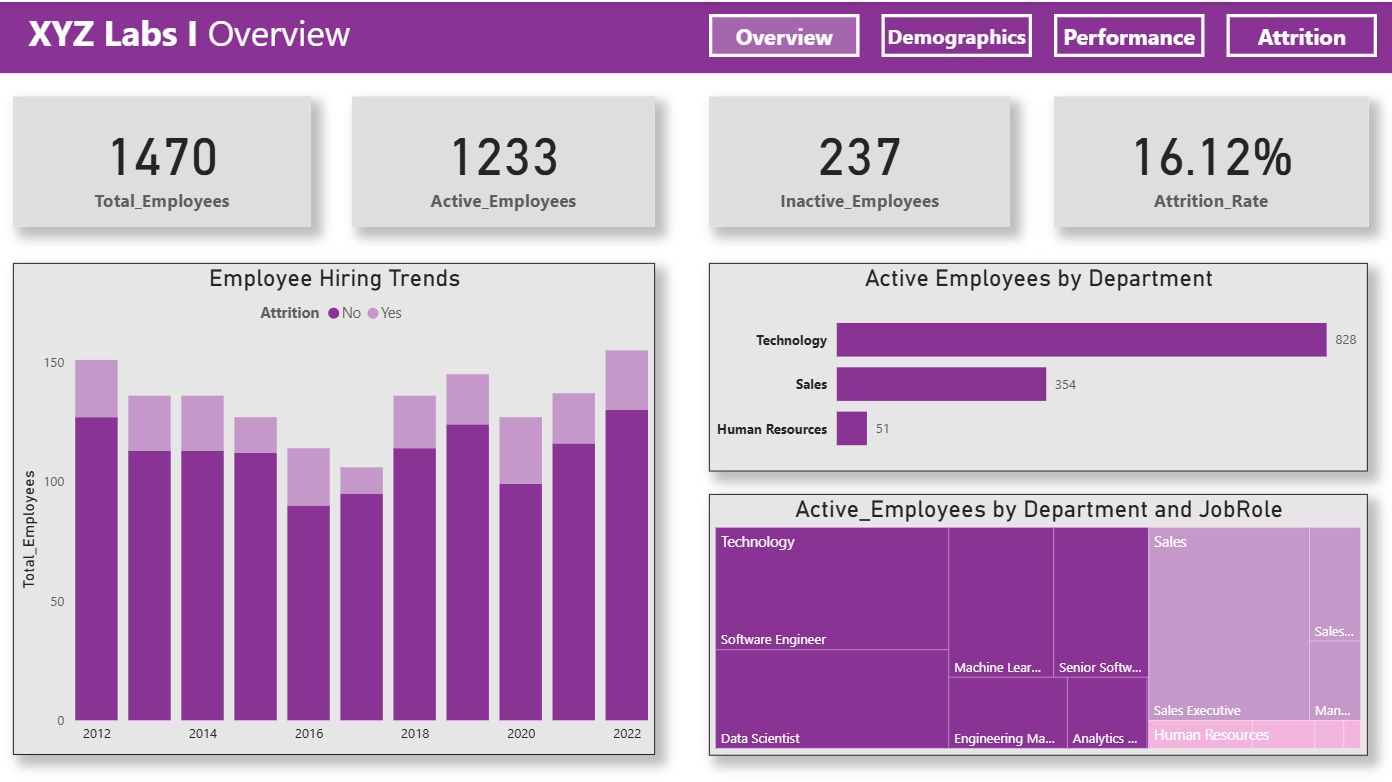

This screenshot's page, from the dashboard's own definition file:
{"tool":"powerbi","page":{"name":"Overview","canvas":[1280,720],"ordinal":0},"visuals":[{"type":"shape","box":[0,0,1279.5,65.1],"z":0},{"type":"textbox","box":[13.6,0,322.5,65.1],"z":1000},{"type":"actionButton","box":[808.6,10.6,137.8,39.4],"z":2000},{"type":"actionButton","box":[651.1,10.6,137.8,39.4],"z":3000},{"type":"actionButton","box":[1123.5,10.6,137.8,39.4],"z":4000},{"type":"actionButton","box":[966.1,10.6,137.8,39.4],"z":5000},{"type":"card","fields":{"Values":["All_Measures.Total_Employees"]},"box":[13.6,86.3,272.6,119.6],"z":6000},{"type":"card","fields":{"Values":["All_Measures.Active_Employees"]},"box":[324,86.3,277.1,119.6],"z":7000},{"type":"card","fields":{"Values":["All_Measures.Inactive_Employees"]},"box":[651.1,86.3,275.6,119.6],"z":8000},{"type":"card","fields":{"Values":["All_Measures.Attrition_Rate"]},"box":[966.1,86.3,287.7,119.6],"z":9000},{"type":"columnChart","title":"Employee Hiring Trends","fields":{"Y":["All_Measures.Total_Employees"],"Series":["Employee.Attrition"],"Category":["Date.Date.Variation.Date Hierarchy.Year"]},"box":[13.6,239.2,587.5,449.7],"z":10000},{"type":"clusteredBarChart","title":"Active Employees by Department","fields":{"Category":["Employee.Department"],"Y":["All_Measures.Active_Employees"]},"box":[651.1,239.2,602.7,190.8],"z":11000},{"type":"treemap","fields":{"Values":["All_Measures.Active_Employees"],"Details":["Employee.JobRole"],"Group":["Employee.Department"]},"box":[651.1,449.7,602.7,239.2],"z":12000}]}

Visuals, with their boxes in screenshot pixels (x1, y1, x2, y2), scaled from the page's 1280x720 canvas onto the 1392x782 screenshot:
shape: [x1=0, y1=0, x2=1391, y2=71]
textbox: [x1=15, y1=0, x2=366, y2=71]
actionButton: [x1=879, y1=12, x2=1029, y2=54]
actionButton: [x1=708, y1=12, x2=858, y2=54]
actionButton: [x1=1222, y1=12, x2=1372, y2=54]
actionButton: [x1=1051, y1=12, x2=1200, y2=54]
card - All_Measures.Total_Employees: [x1=15, y1=94, x2=311, y2=224]
card - All_Measures.Active_Employees: [x1=352, y1=94, x2=654, y2=224]
card - All_Measures.Inactive_Employees: [x1=708, y1=94, x2=1008, y2=224]
card - All_Measures.Attrition_Rate: [x1=1051, y1=94, x2=1364, y2=224]
"Employee Hiring Trends" columnChart: [x1=15, y1=260, x2=654, y2=748]
"Active Employees by Department" clusteredBarChart: [x1=708, y1=260, x2=1364, y2=467]
treemap - All_Measures.Active_Employees x Employee.JobRole: [x1=708, y1=488, x2=1364, y2=748]
